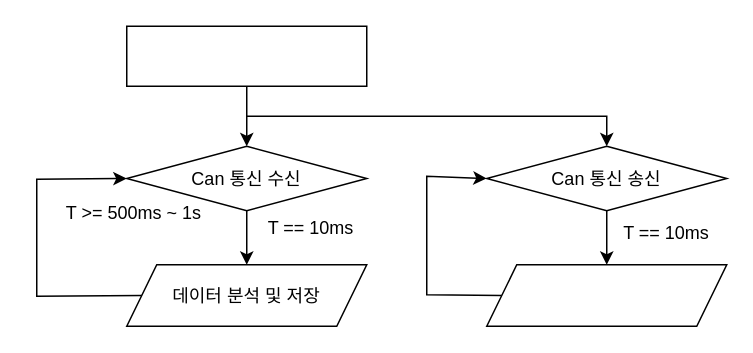
Some shapes in this 753 by 353 pixel diagram are drawn without their labels. The shapes that lost their labels are listed below. From the top down, each one's box as (x1, y1, x2, y2) in pixels, then its label:
(125, 25, 367, 86): Can 통신 초기화
(485, 263, 727, 326): 데이터 송신
